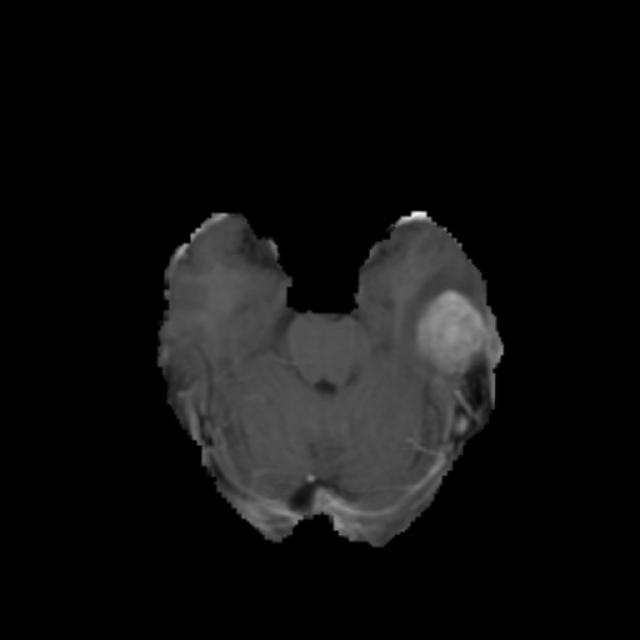negative: (415, 290, 484, 374)
